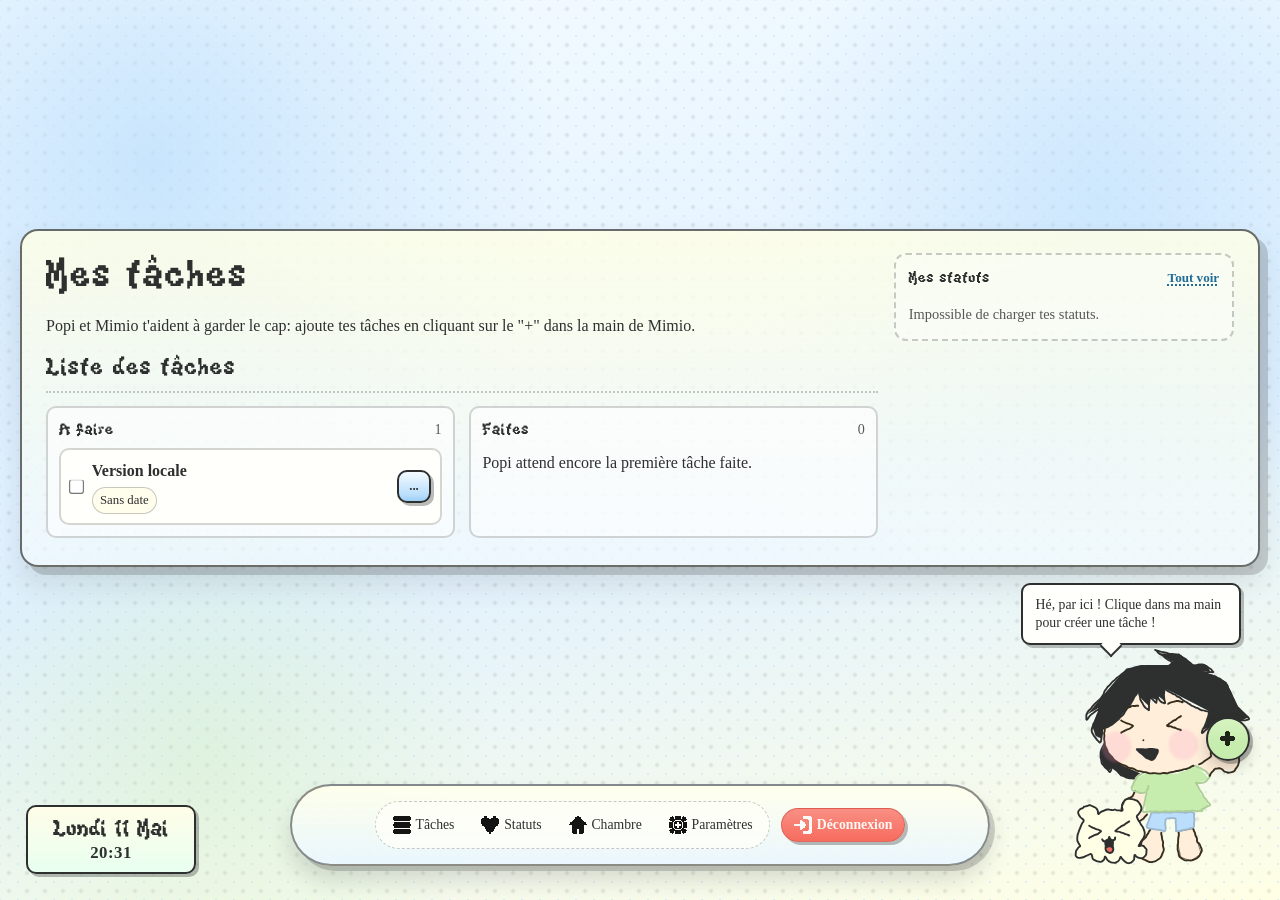
Scenario: TasksPage › keeps edit form values and refreshes tasks when save fails
Expected: the text "Version locale" is shown, [92,462,187,479]
Click the button named "Actions pour Version locale". click: (414, 486)
box: [397,470,431,503]
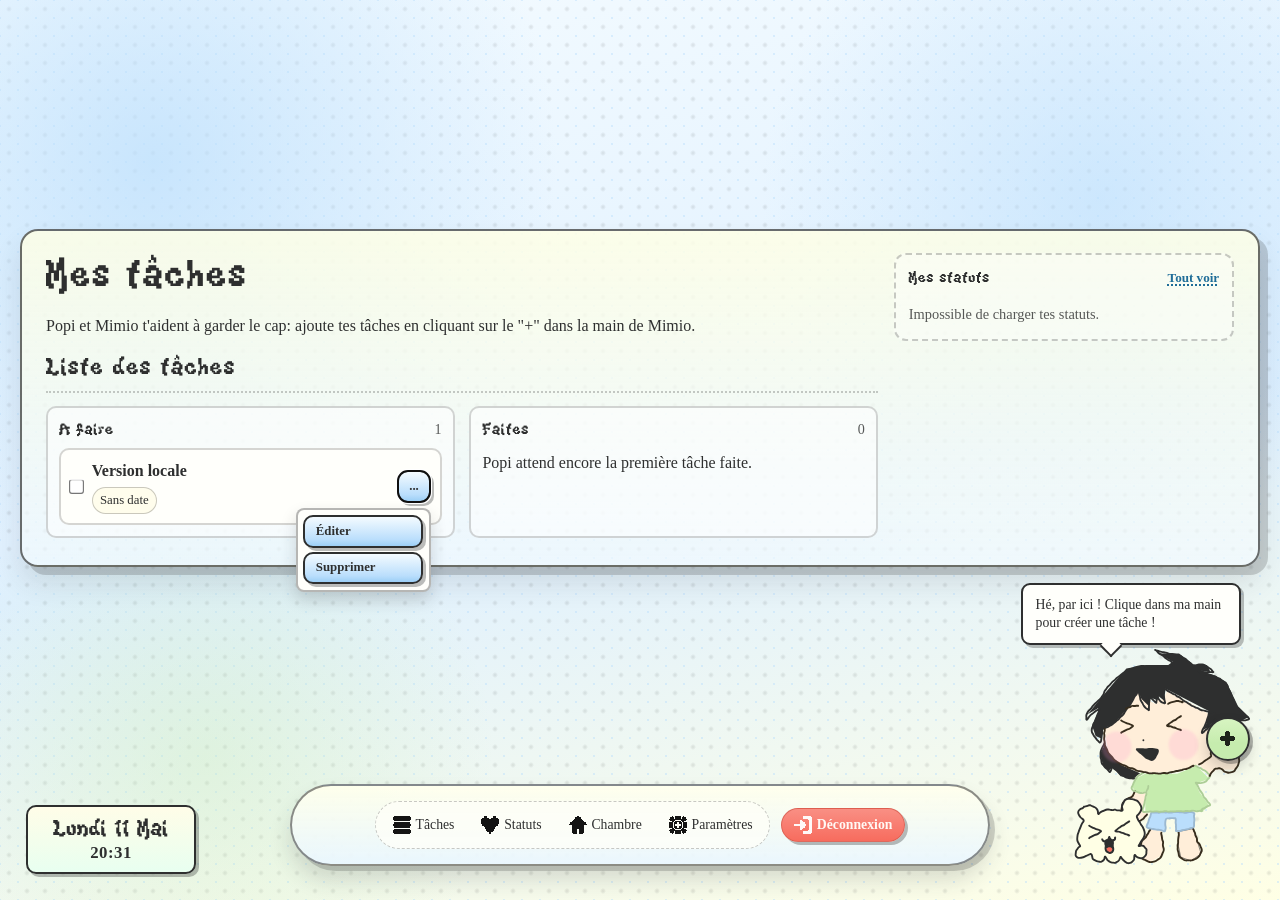
Click the menu item "Éditer". click: (363, 531)
box: [303,515,423,548]
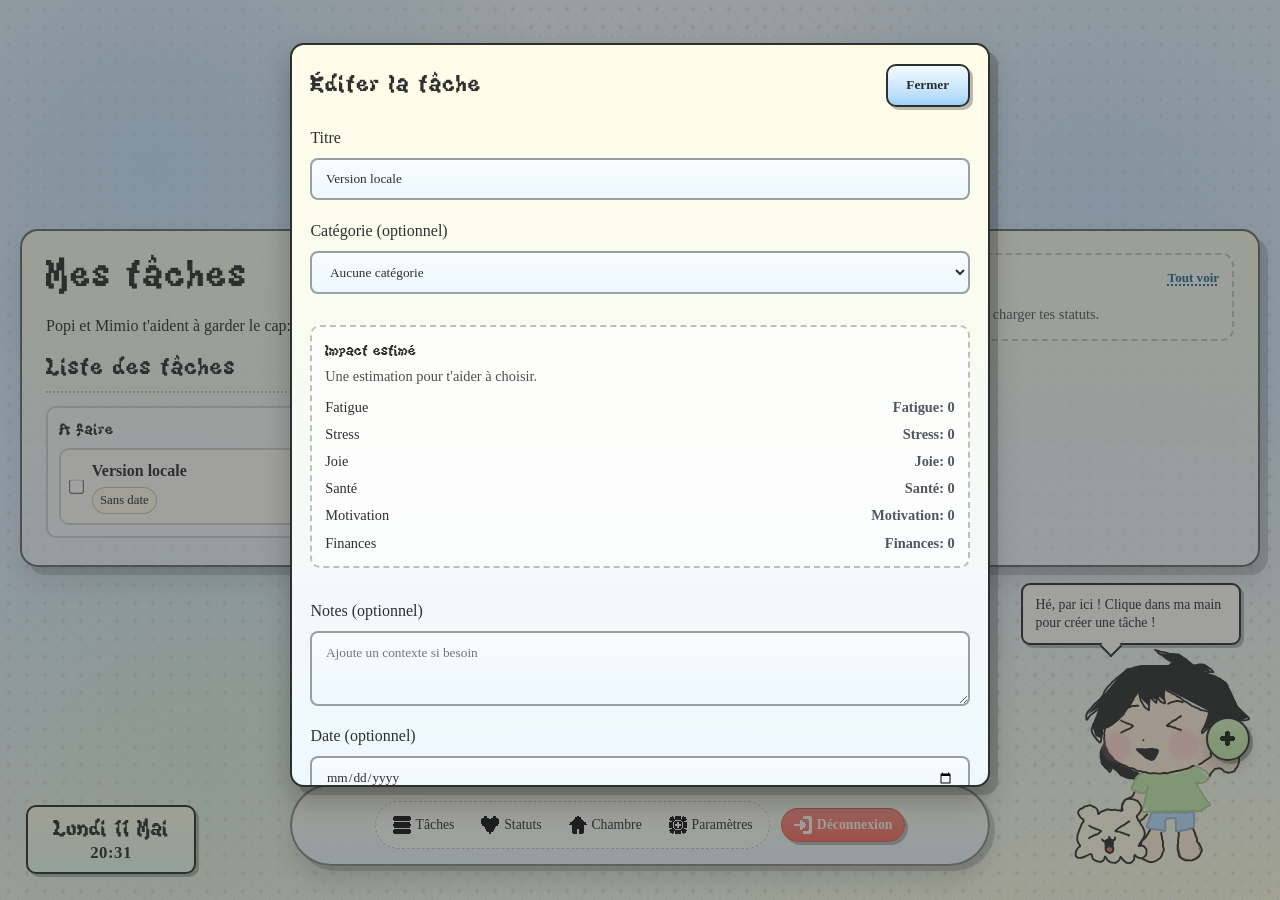
Replace the text in the field labelled "Titre" with "Nouvelle tentative". click: (640, 179)
box: [310,158,970,200]
(page scrolled)
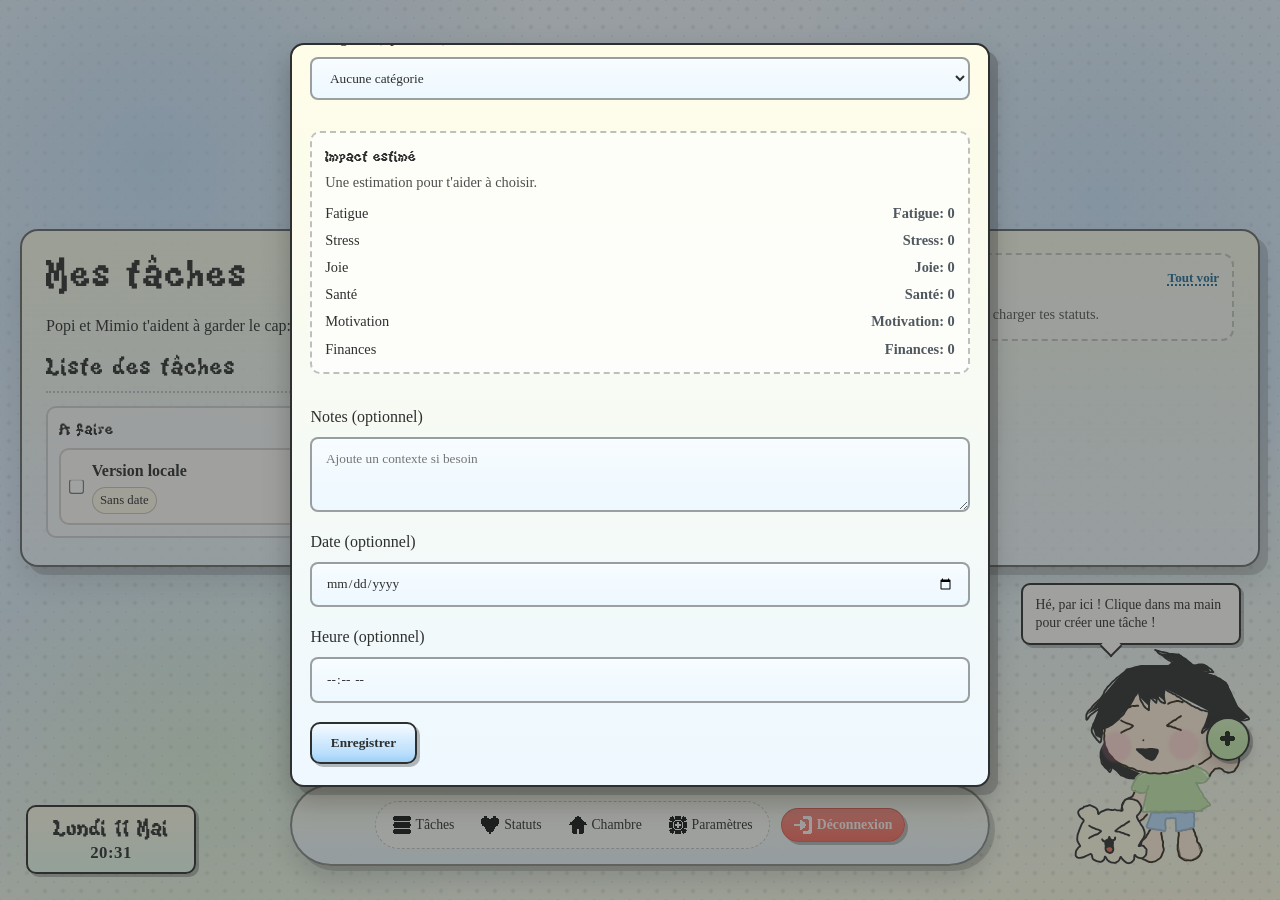
Click the button "Enregistrer". click: (364, 743)
box: [310,722,417,764]
(page scrolled)
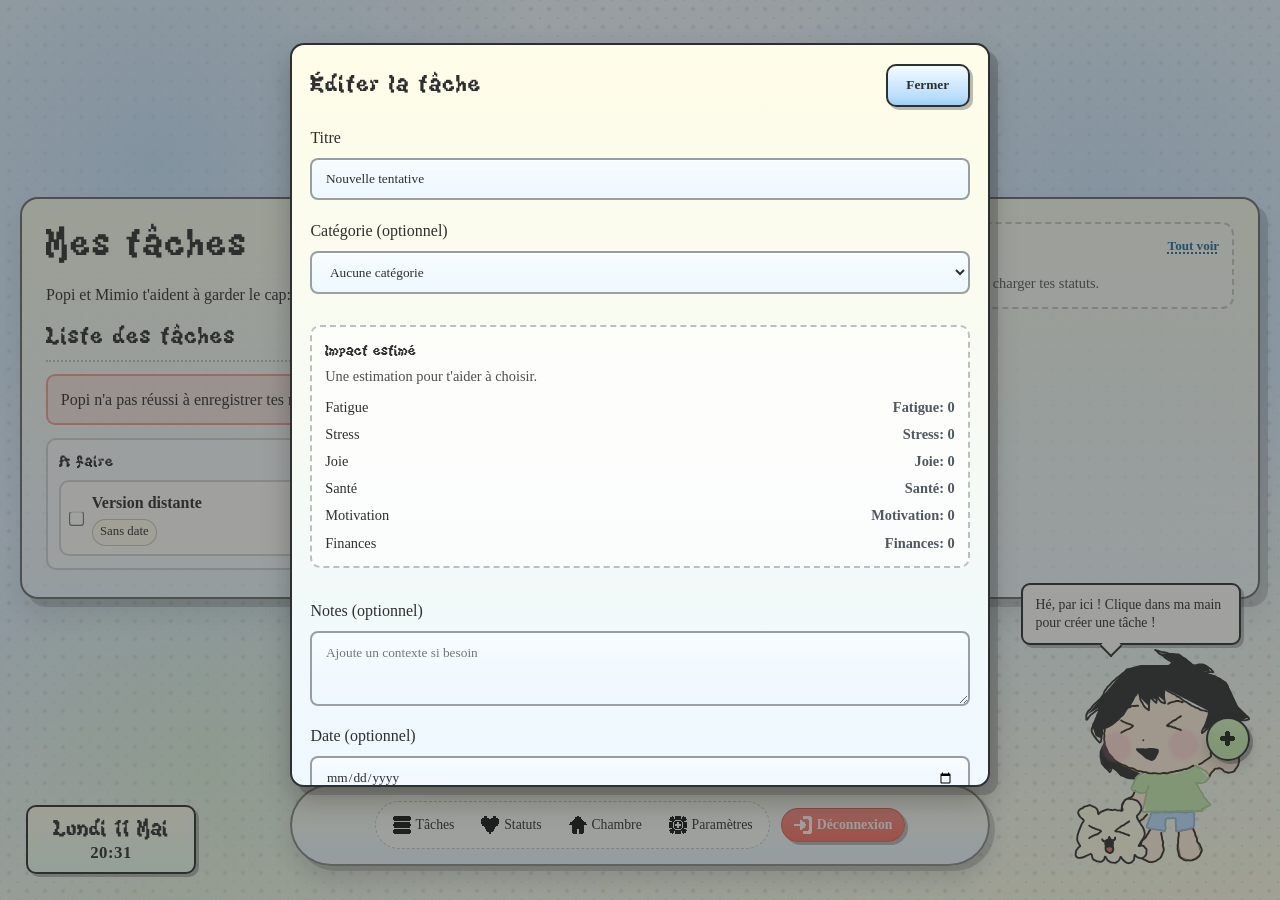
Result: the text "Version distante" is shown at [92,494,202,511]
Result: the text "Popi n'a pas réussi à enregistrer tes modifications. Réessaie." is shown at [46,374,878,425]
